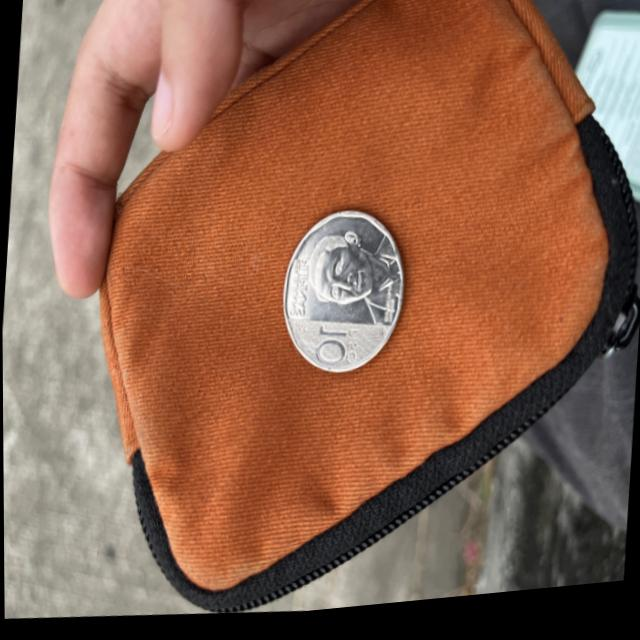10_New_Front: (307, 310, 367, 392)
